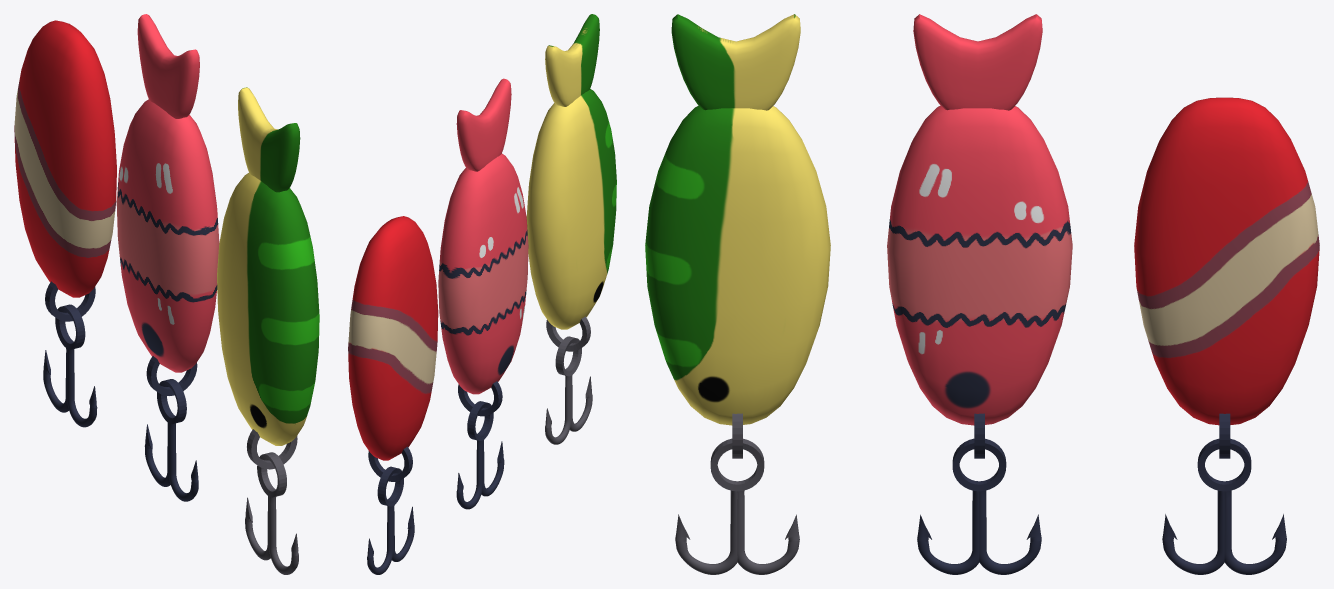
File: fish bait.fbx
3 views of the same model, side by side, from view 1: azimuth 30°, elevation 25°; view 2: azimuth 150°, elevation 25°; view 3: azimuth 270°, elevation 25° (orthographic). The views are drawn at different scales.
Parts seen in each view (by area): view 1: fihh.002, fihh, fihh.001, Cylinder.002, Cylinder.003, Cylinder.001, hoo.002, hoo.004, hoo, hoo.003, hoo.001, hoo.005; view 2: fihh, fihh.002, fihh.001, Cylinder.001, Cylinder.003, Cylinder.002, hoo.005, hoo.003, hoo.001, hoo.002, hoo.004, hoo; view 3: fihh, fihh.002, fihh.001, Cylinder.002, Cylinder.003, Cylinder.001, hoo, hoo.001, hoo.005, hoo.003, hoo.004, hoo.002.
Part boxes in pixels (box(x1,y1,x2,y2)): fihh.002: box(217, 87, 319, 445); fihh: box(116, 14, 219, 372); fihh.001: box(14, 20, 116, 297); Cylinder.002: box(45, 281, 95, 349); Cylinder.003: box(247, 429, 297, 497); Cylinder.001: box(146, 356, 197, 424); hoo.002: box(66, 343, 97, 427); hoo.004: box(268, 491, 298, 574); hoo: box(168, 418, 198, 501); hoo.003: box(43, 342, 68, 412); hoo.001: box(144, 417, 170, 486); hoo.005: box(245, 490, 270, 560); fihh: box(438, 78, 528, 394); fihh.002: box(526, 14, 616, 329); fihh.001: box(348, 216, 438, 460); Cylinder.001: box(458, 381, 502, 440); Cylinder.003: box(546, 316, 590, 376); Cylinder.002: box(368, 446, 412, 506); hoo.005: box(545, 371, 571, 444); hoo.003: box(367, 501, 394, 574); hoo.001: box(456, 435, 483, 509); hoo.002: box(392, 502, 414, 561); hoo.004: box(570, 370, 592, 431); hoo: box(481, 434, 504, 496); fihh: box(887, 14, 1072, 425); fihh.002: box(645, 14, 830, 425); fihh.001: box(1134, 97, 1319, 425); Cylinder.002: box(1197, 413, 1251, 491); Cylinder.003: box(710, 413, 764, 491); Cylinder.001: box(952, 413, 1006, 491); hoo: box(917, 490, 979, 574); hoo.001: box(979, 490, 1041, 574); hoo.005: box(737, 490, 799, 574); hoo.003: box(1224, 490, 1286, 574); hoo.004: box(675, 490, 737, 574); hoo.002: box(1162, 490, 1224, 574).
Size of the model in its own units: 9.39 by 73 by 80.08.
3 materials, 3 textured.
